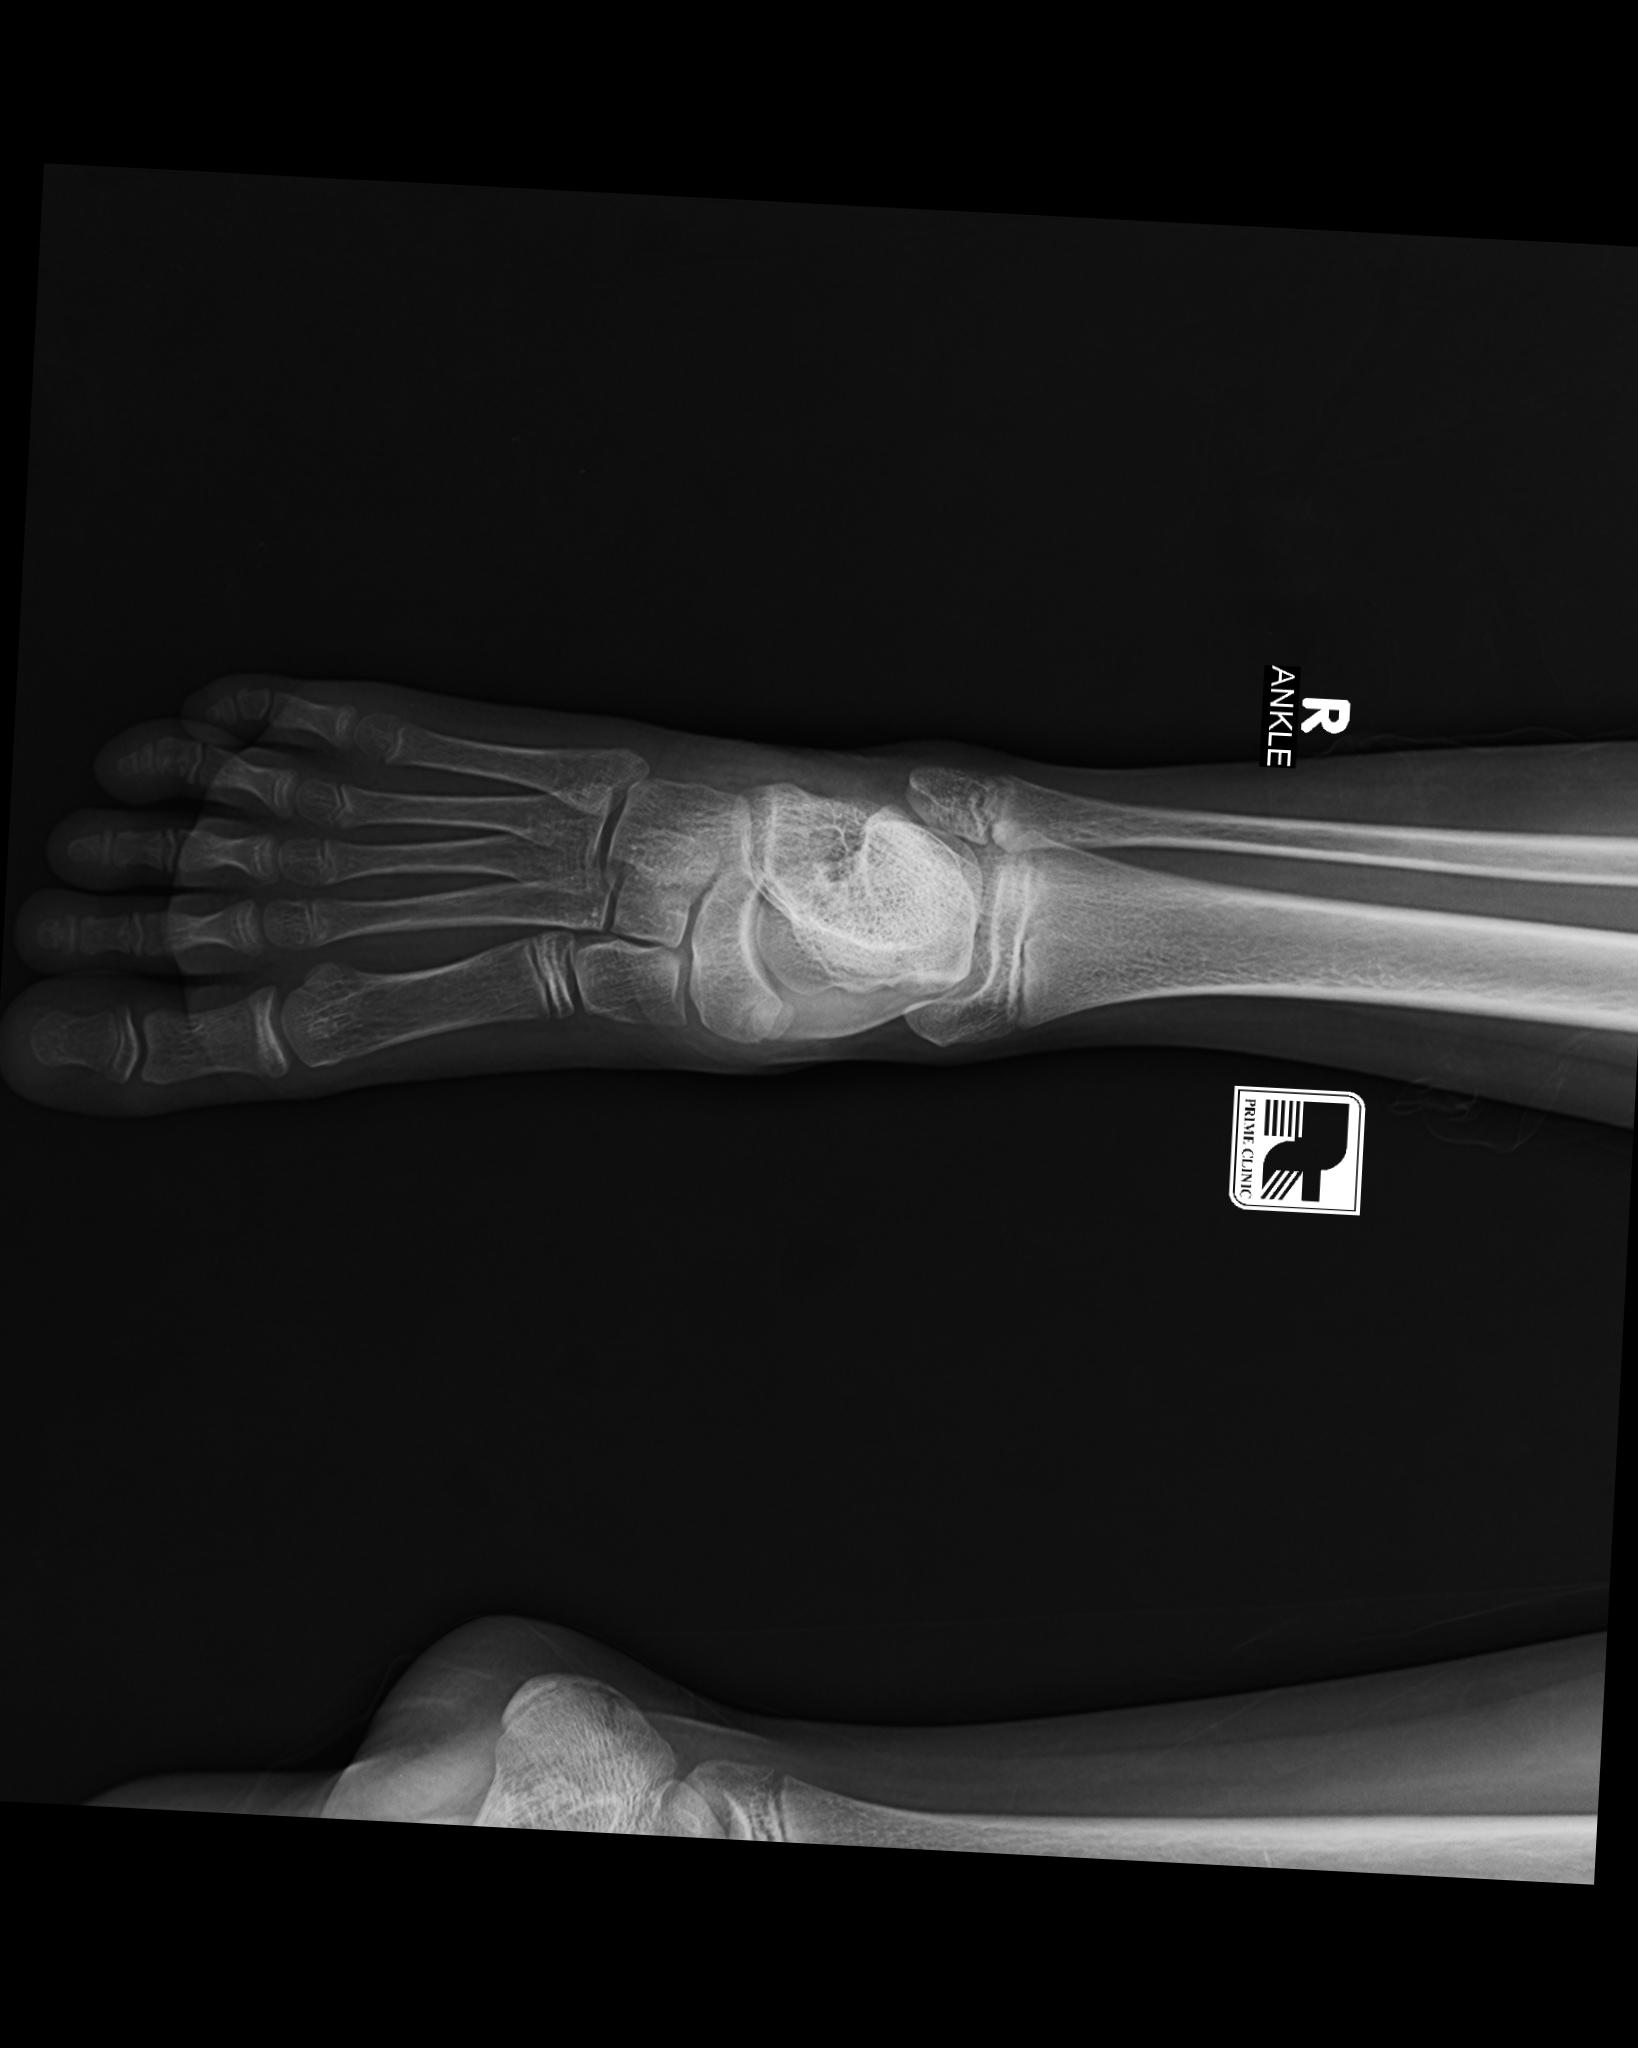fractured: (949, 771, 1040, 864)
